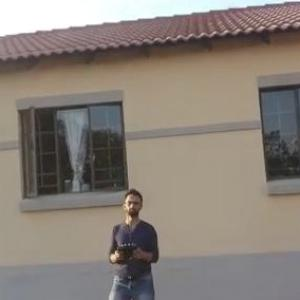follow: (104, 182, 166, 299)
